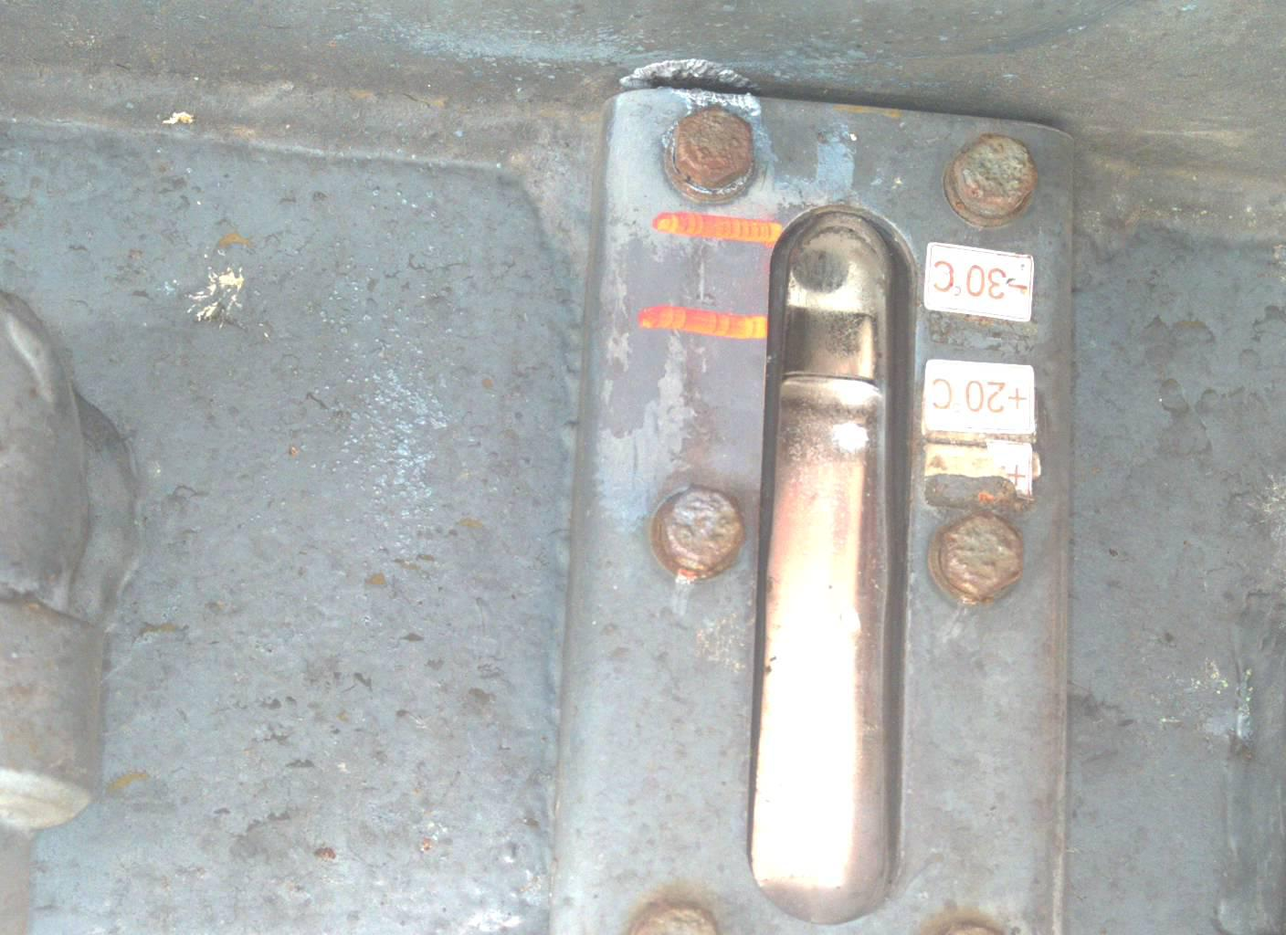oil_level_gauge: (647, 93, 1050, 930)
